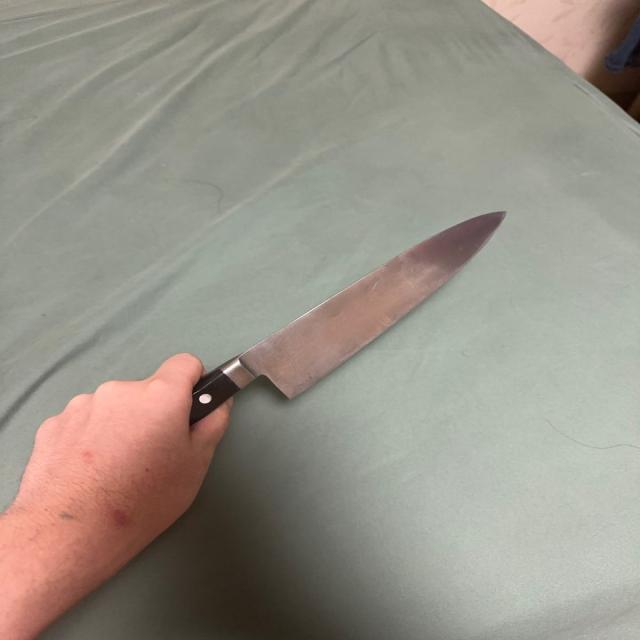knife: (193, 207, 511, 420)
